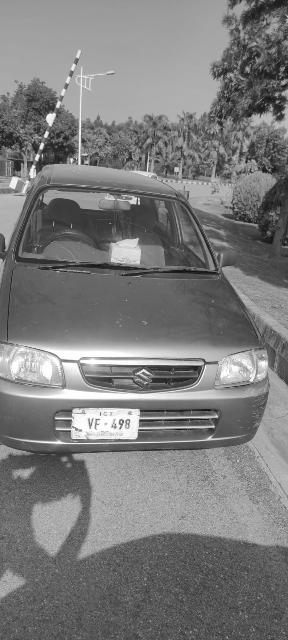Number: (87, 415, 133, 432)
